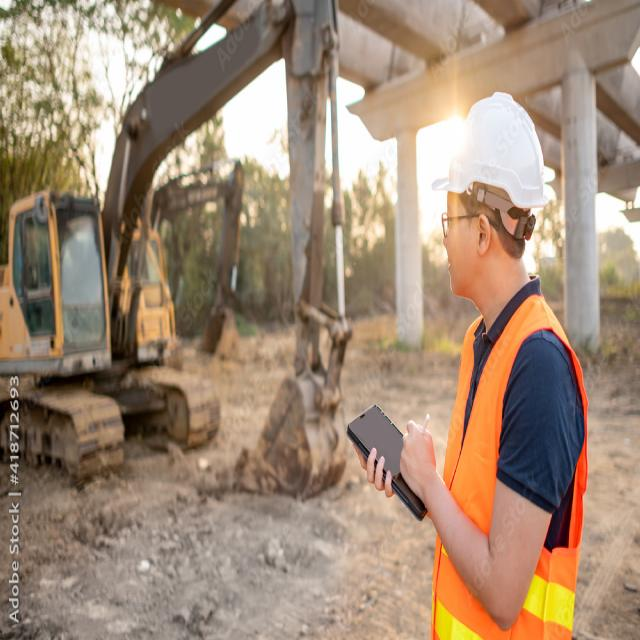goggles: (442, 207, 494, 233)
helmet: (436, 88, 555, 207)
vest: (434, 299, 590, 640)
